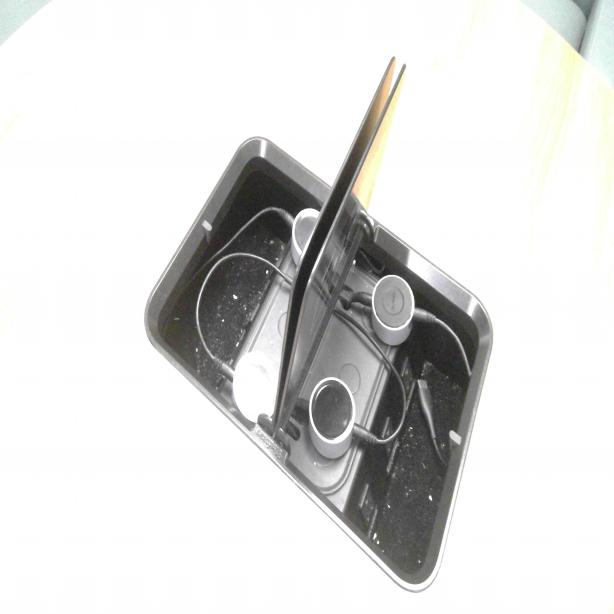typeb: (362, 490, 377, 522)
